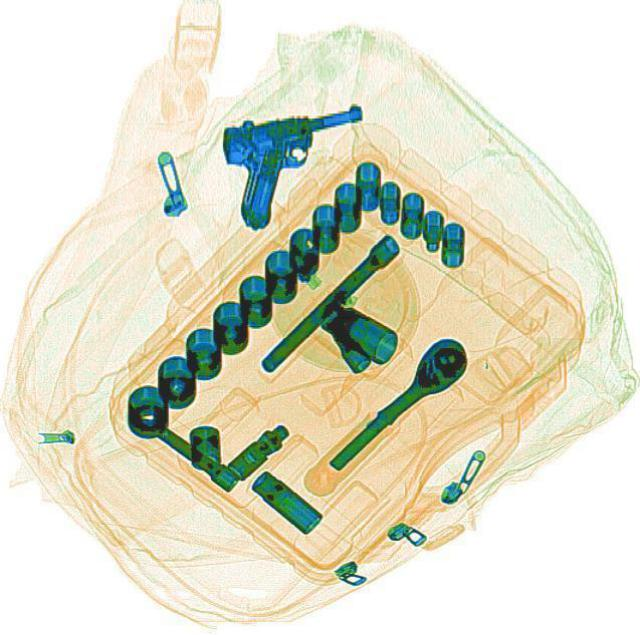Gun: (214, 91, 386, 232)
